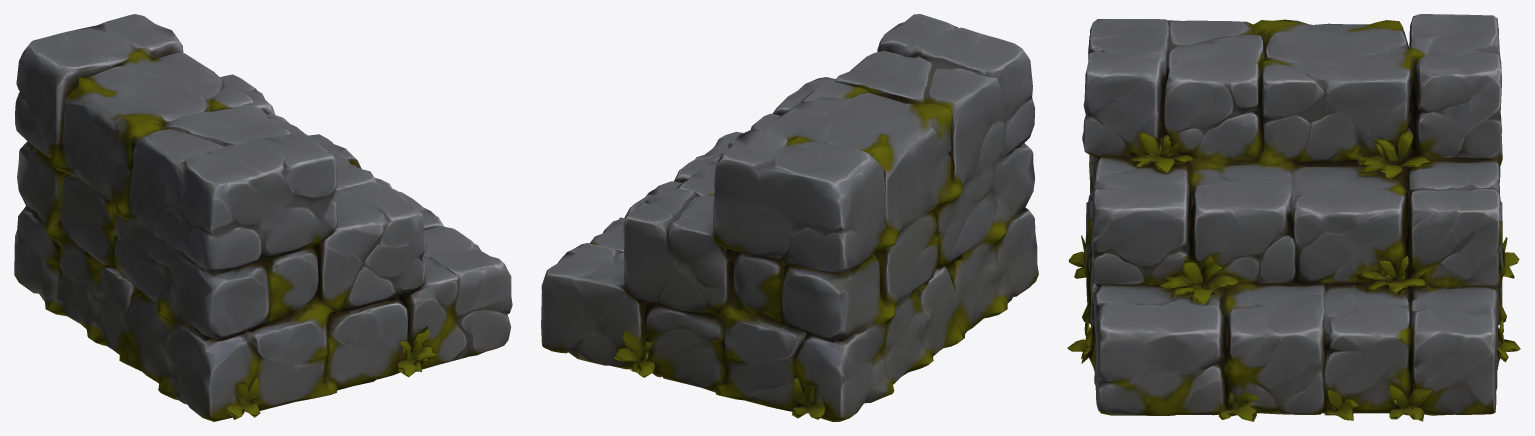
Rendered from stairs.glb.
The picture shows the model from 3 angles, left to right: view 1: azimuth 30°, elevation 25°; view 2: azimuth 150°, elevation 25°; view 3: azimuth 270°, elevation 25°; orthographic projection. The views are drawn at different scales.
Visible parts, largest first — view 1: tripo_node_b8a2ecd4-6f03-48c6-b5a4-dd517380eaf2; view 2: tripo_node_b8a2ecd4-6f03-48c6-b5a4-dd517380eaf2; view 3: tripo_node_b8a2ecd4-6f03-48c6-b5a4-dd517380eaf2.
Part boxes in pixels (box(x1,y1,x2,y2)): tripo_node_b8a2ecd4-6f03-48c6-b5a4-dd517380eaf2: box(14, 14, 512, 421); tripo_node_b8a2ecd4-6f03-48c6-b5a4-dd517380eaf2: box(541, 14, 1038, 421); tripo_node_b8a2ecd4-6f03-48c6-b5a4-dd517380eaf2: box(1067, 14, 1520, 421).
Size of the model in its own units: 0.888 by 0.6246 by 1.
1 material, 1 textured.
